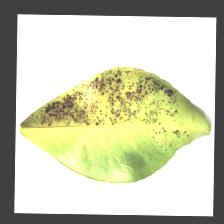canker: (45, 80, 162, 124)
